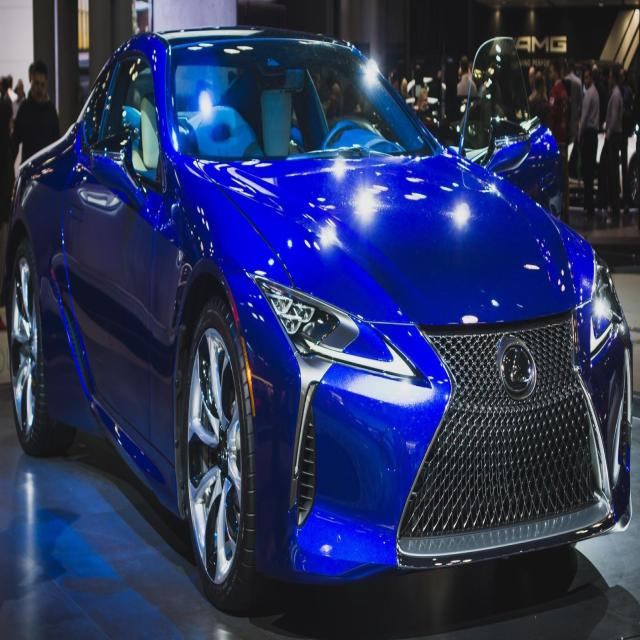blue: (2, 19, 633, 612)
